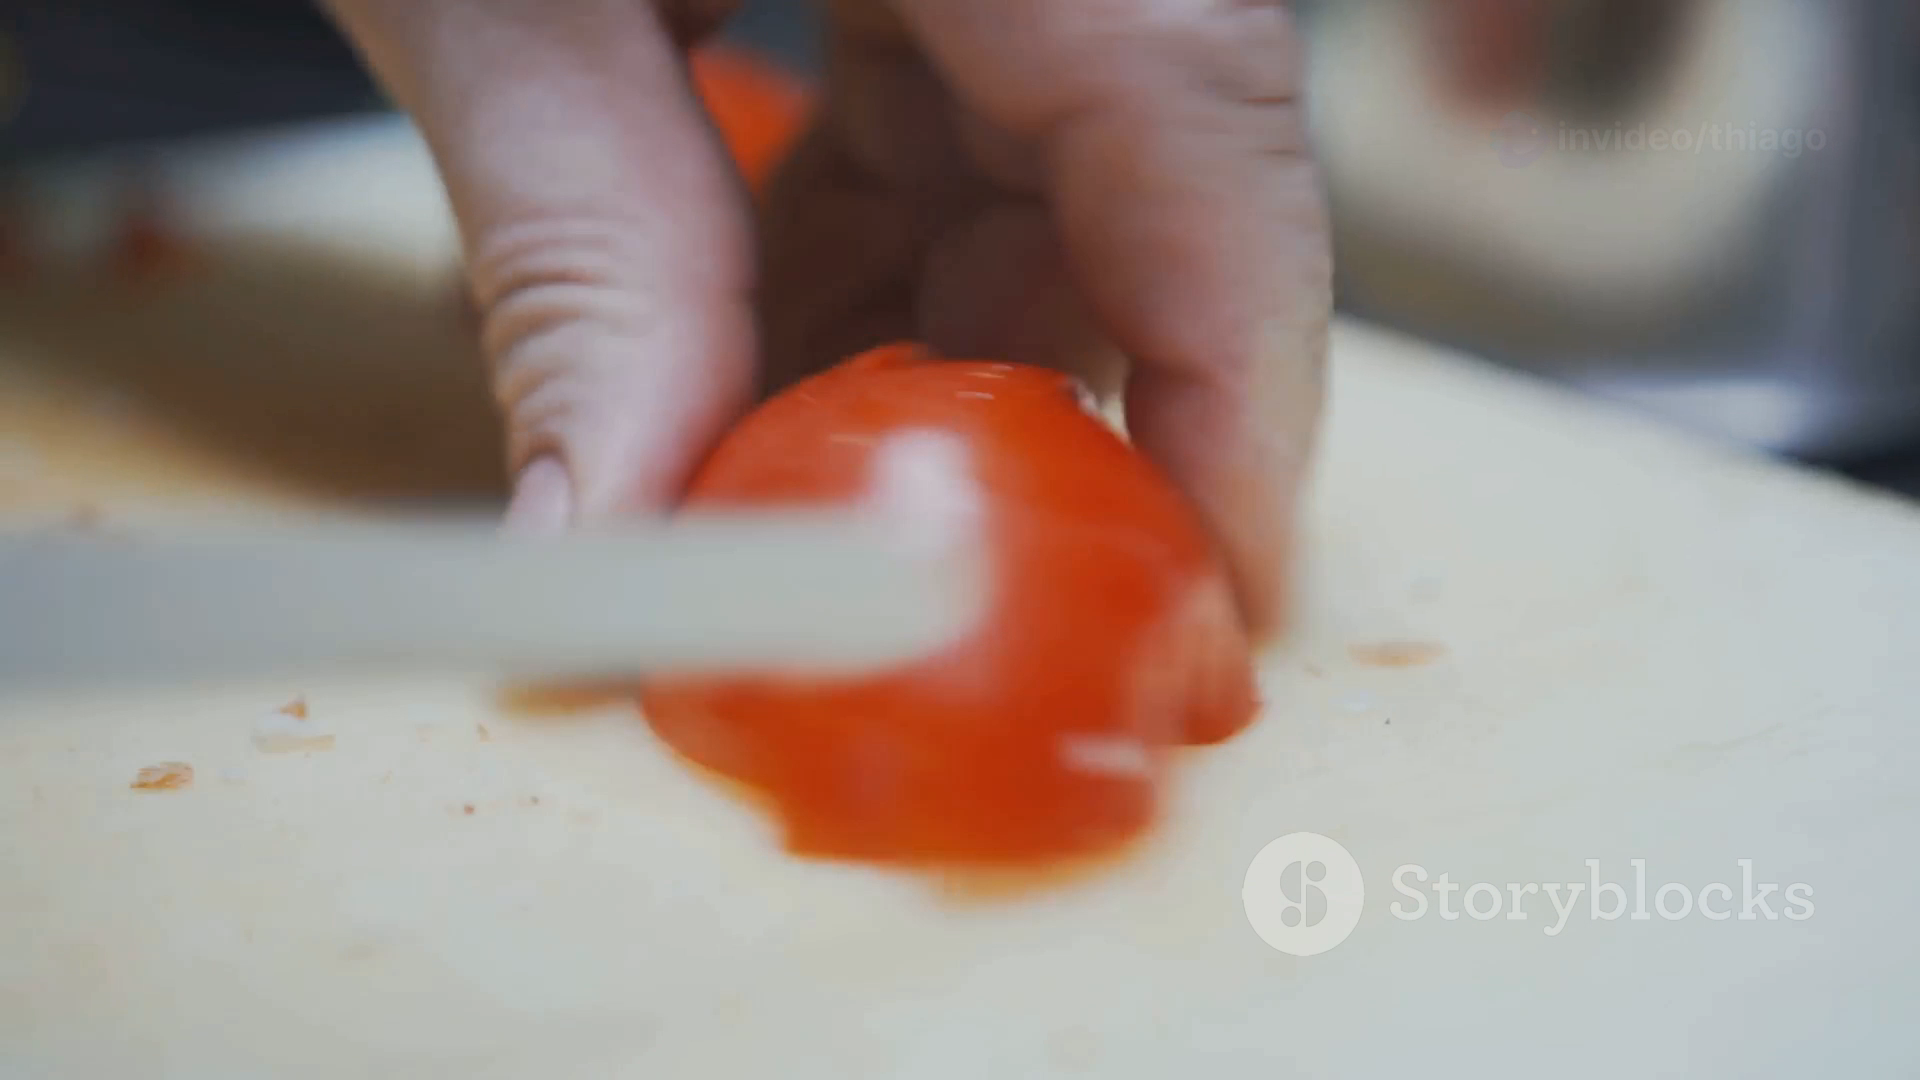cortante: (0, 508, 992, 729)
